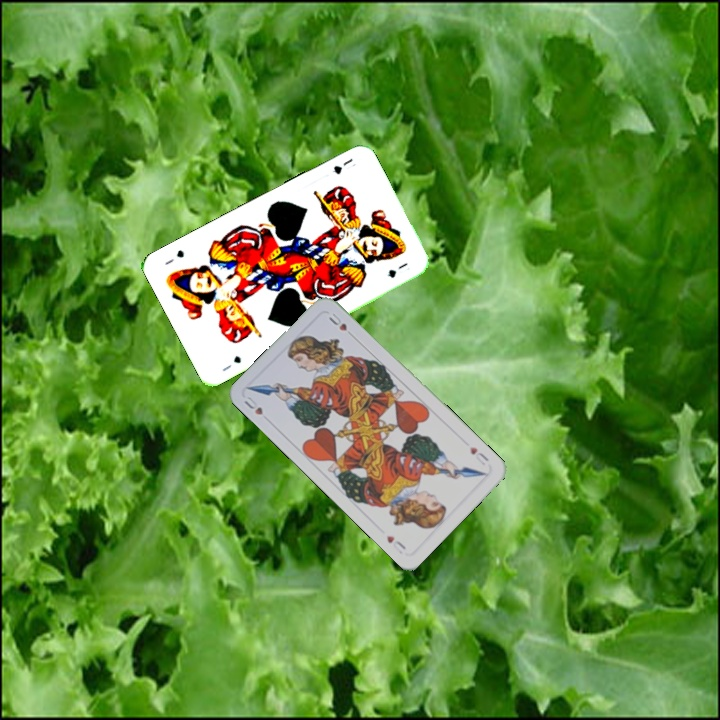GU: (328, 154, 355, 177), (218, 352, 244, 374)
HU: (466, 442, 491, 468), (240, 392, 265, 417)
